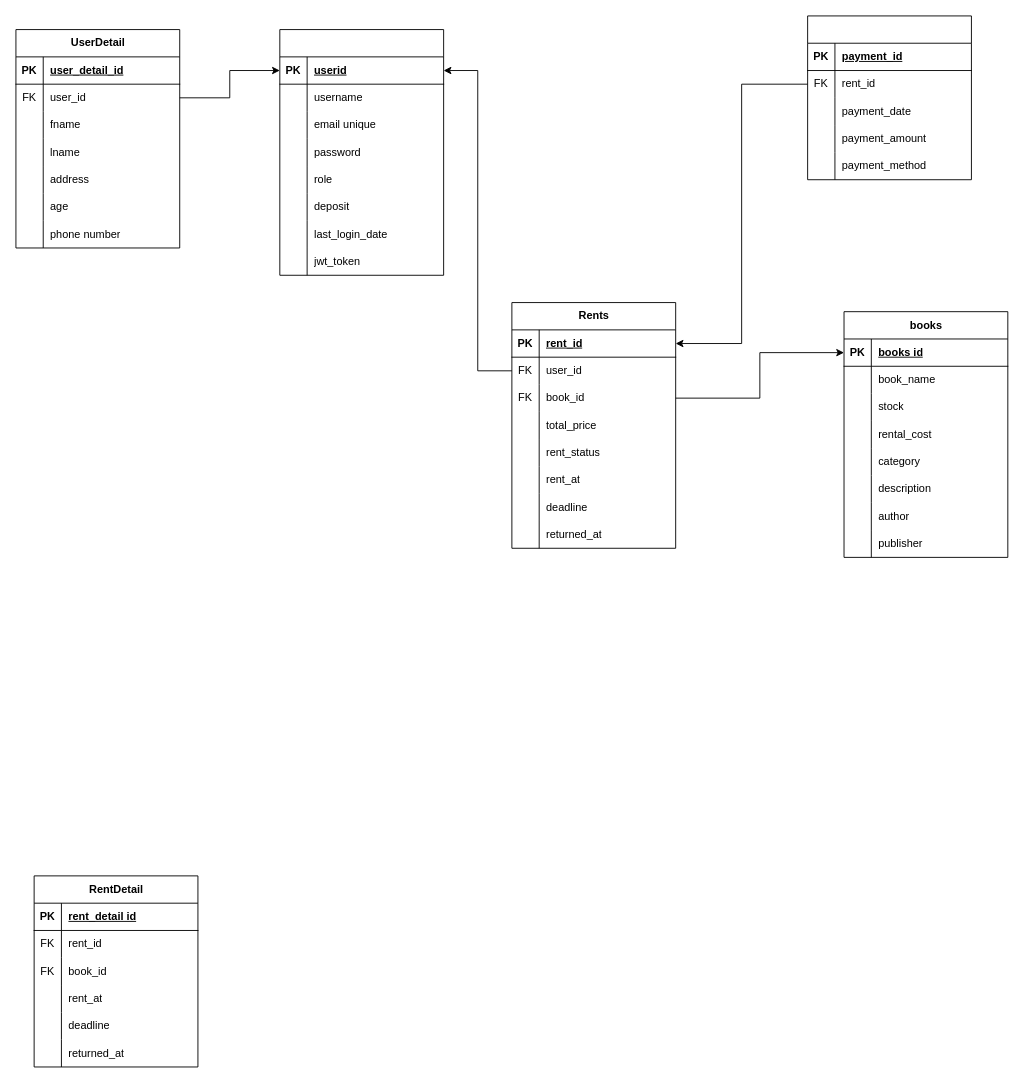
The diagram is 1024 pixels wide and 1083 high, and some of its shapes have lost their labels. Each missing label, with the box of its shape:
Payments: (807, 15, 971, 180)
users: (279, 29, 444, 275)
